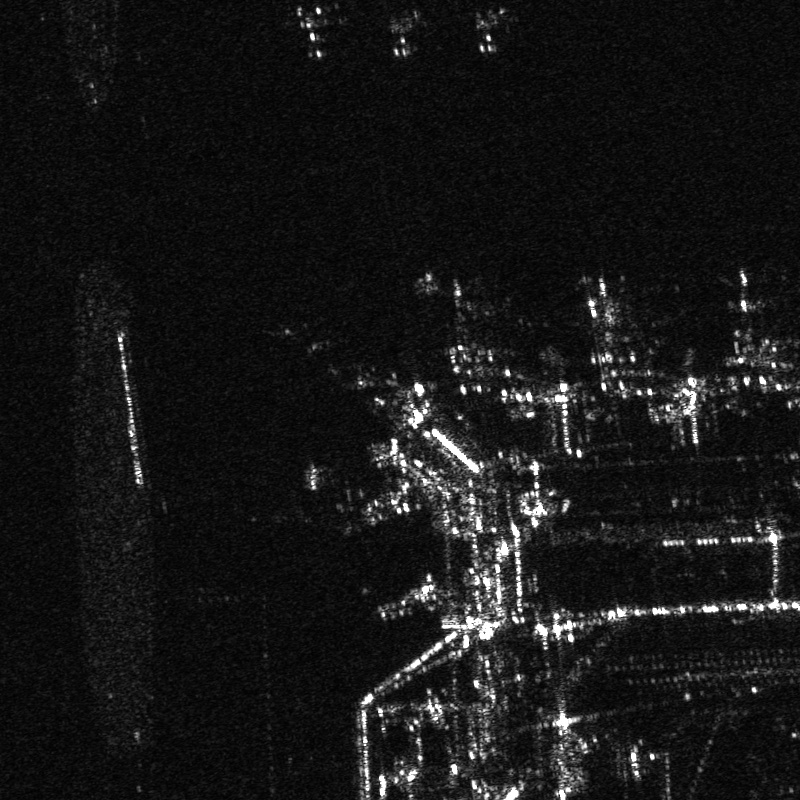A220: (572, 267, 638, 347)
Boeing787: (712, 264, 779, 337)
other: (424, 268, 490, 338)
